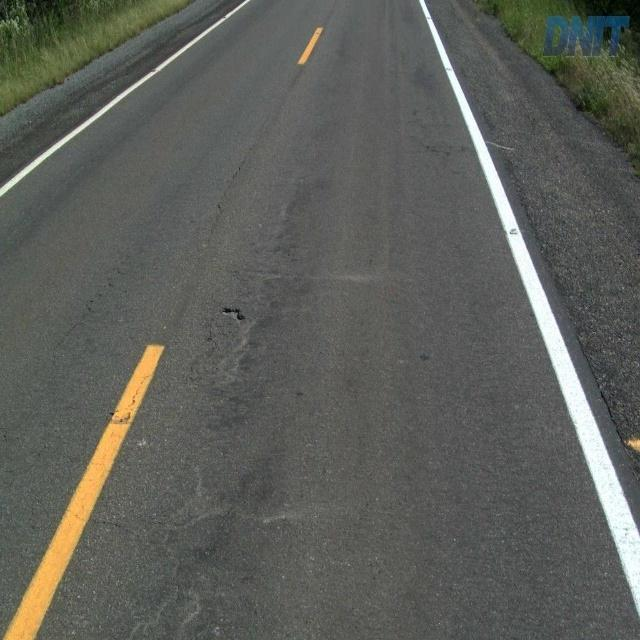pothole: (224, 307, 260, 334)
